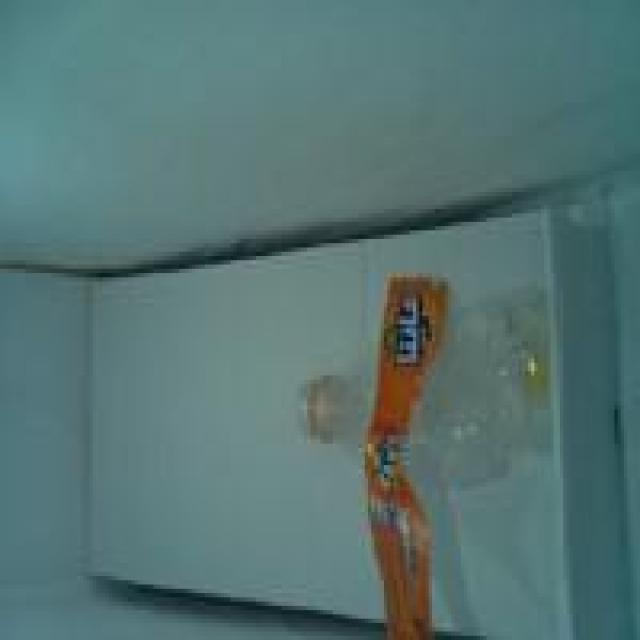bottle: (277, 245, 577, 613)
